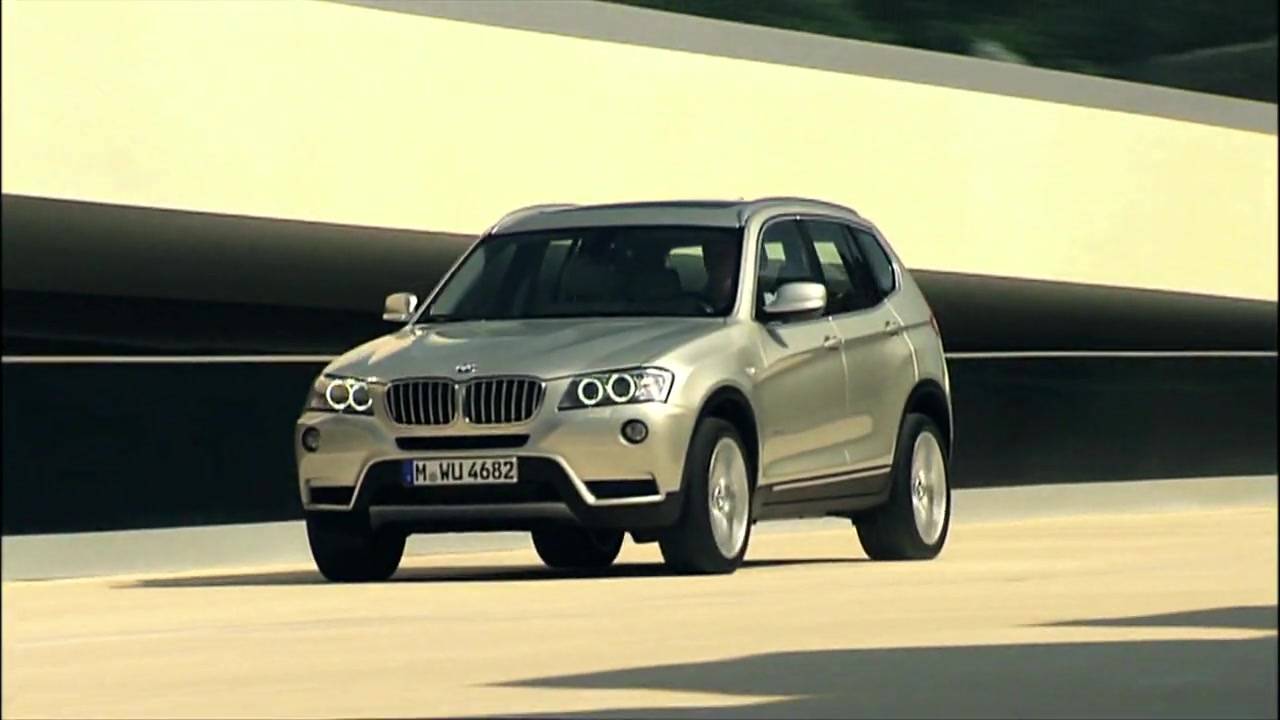car: (286, 196, 960, 586)
